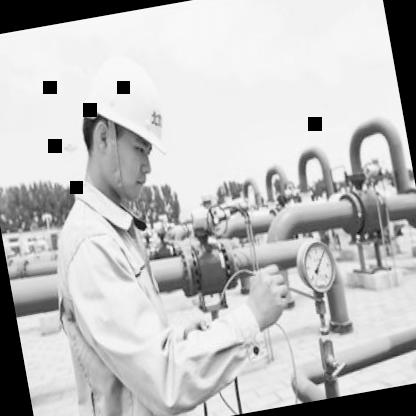helmet: (55, 30, 190, 218)
